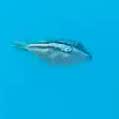smallfish: (8, 29, 96, 74)
